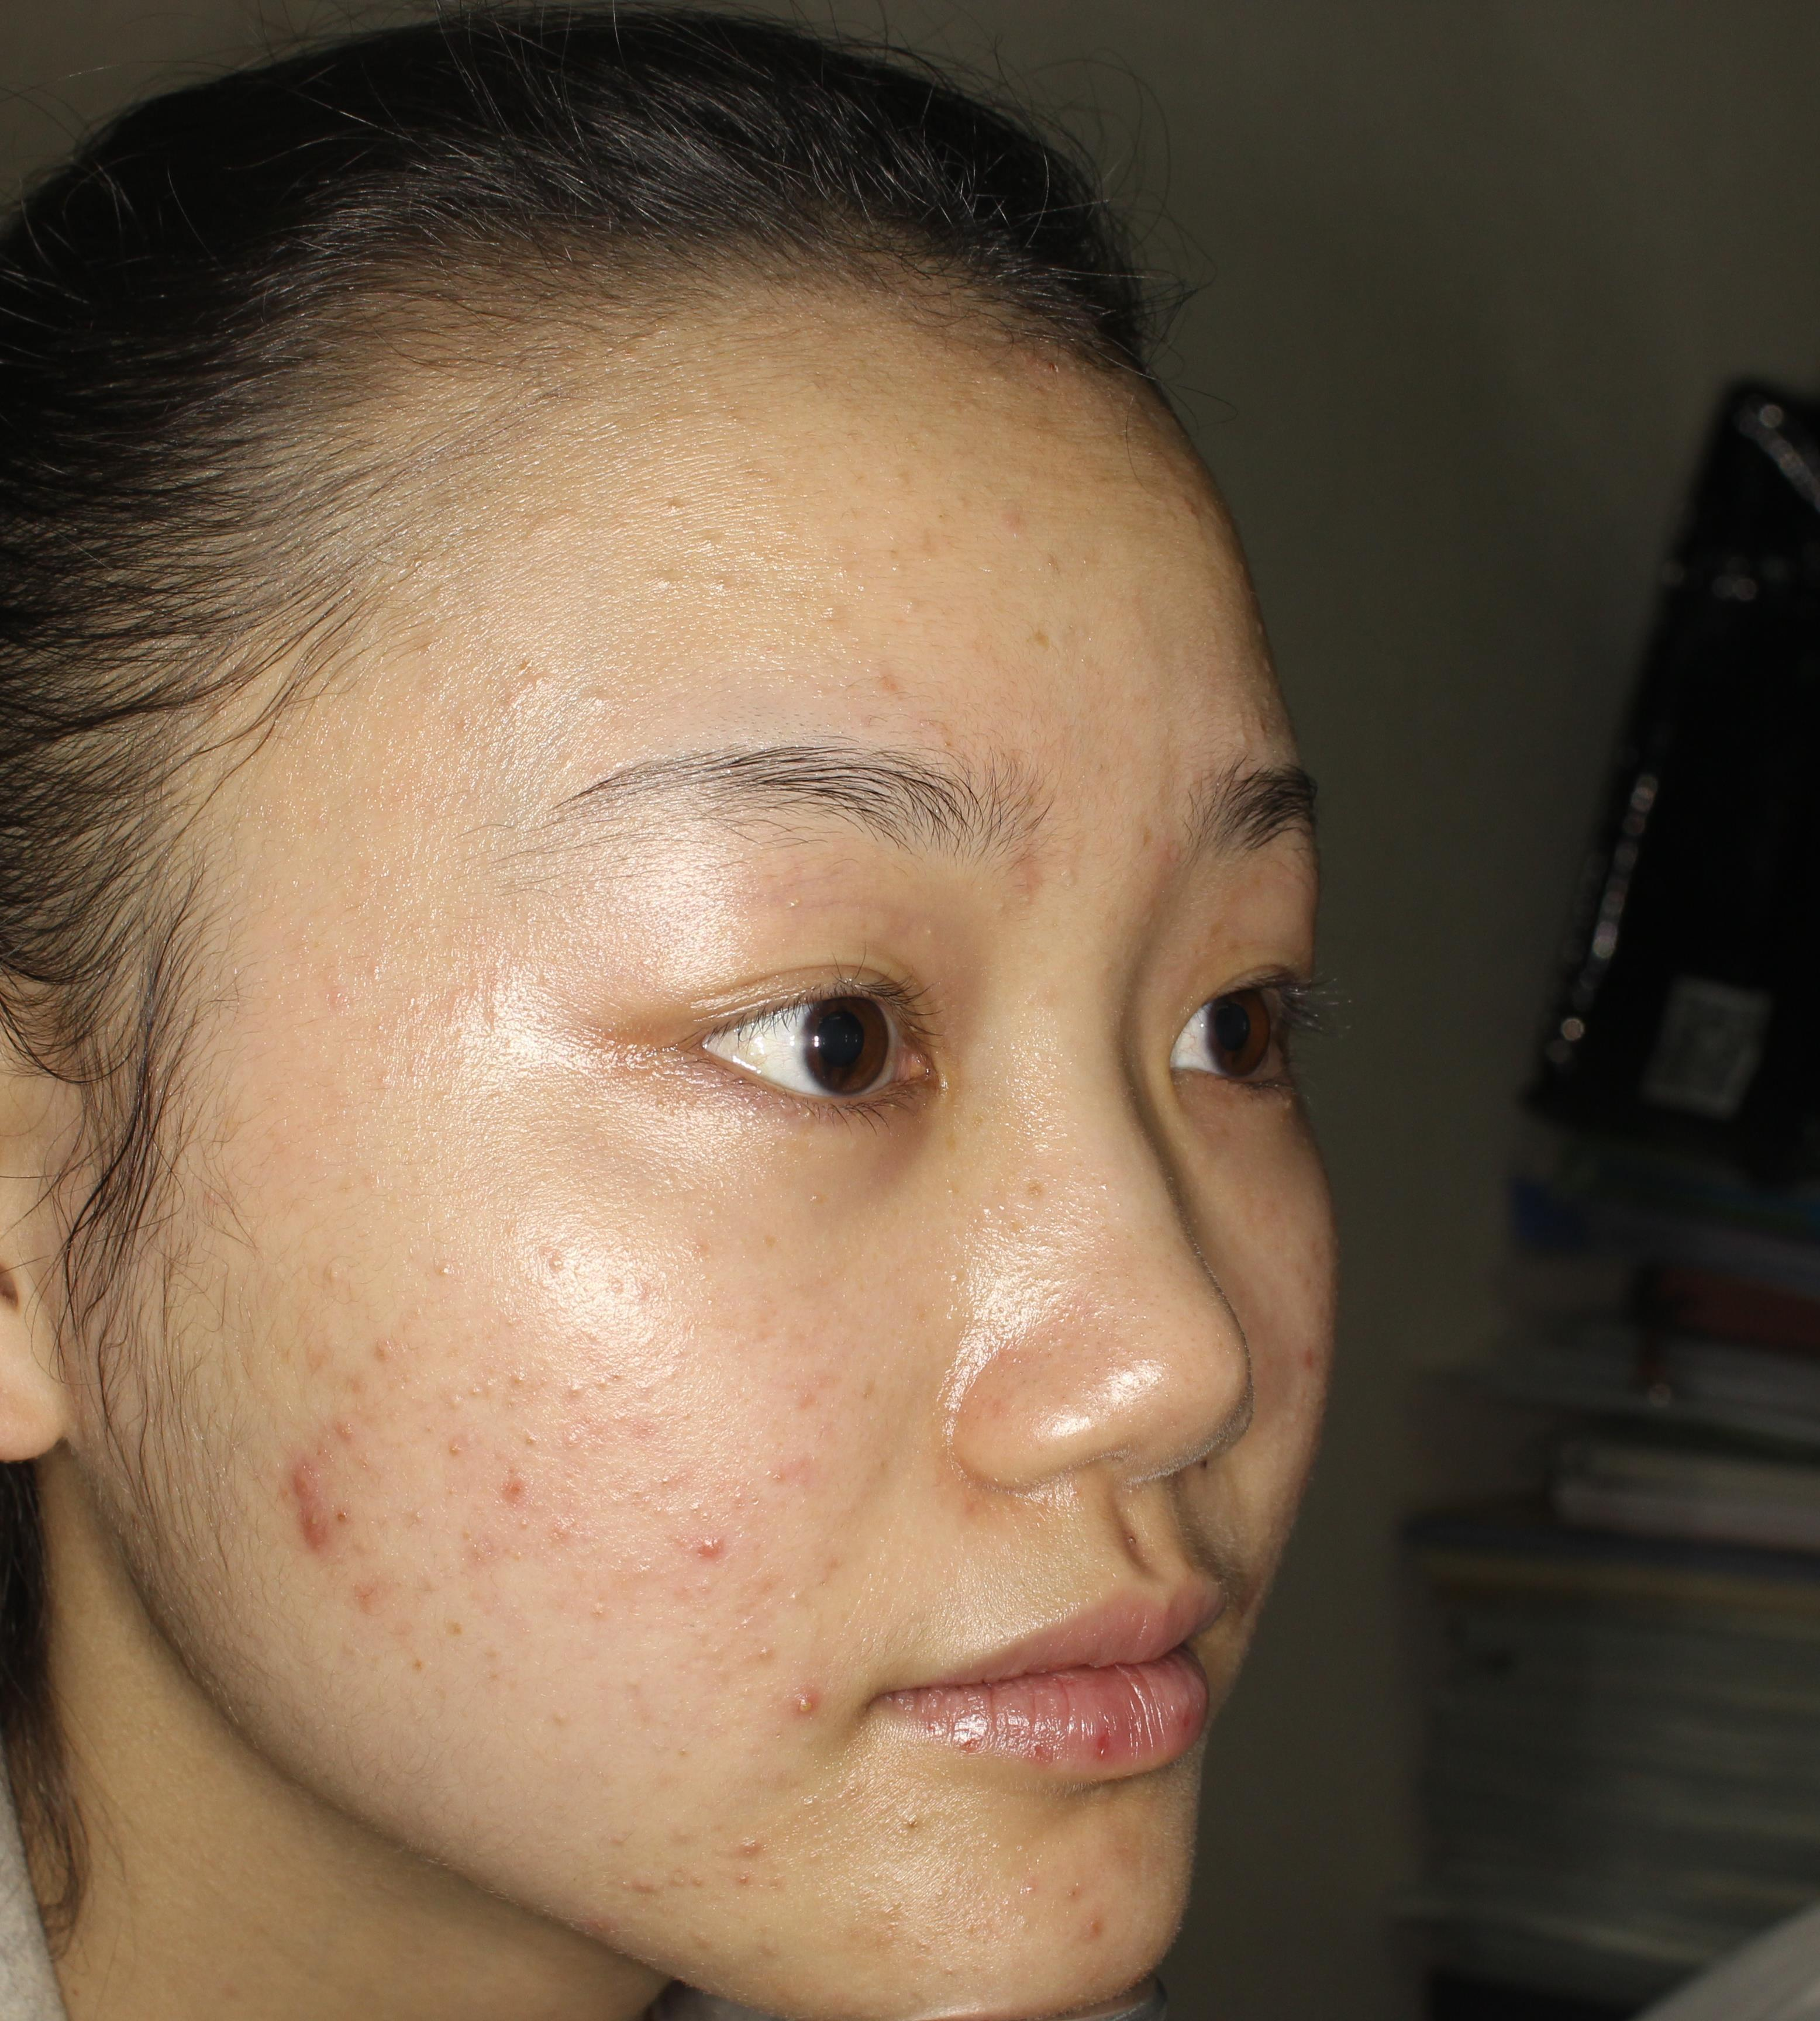fore: (260, 1477, 372, 1594), (704, 1826, 799, 1907), (673, 1482, 750, 1577), (1051, 1895, 1131, 1956), (771, 1661, 820, 1742), (490, 1447, 539, 1528)
